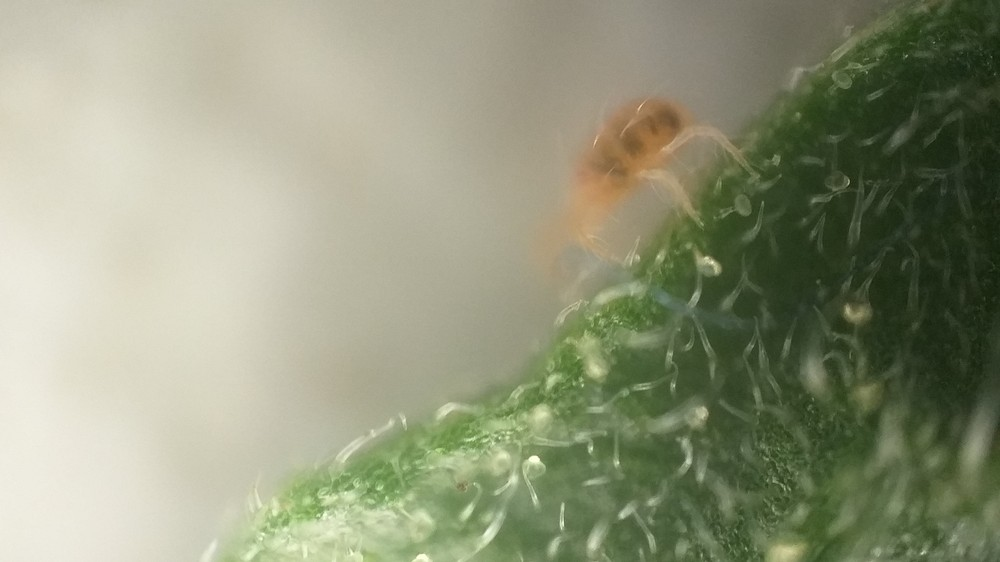Aracnido Rojo: (499, 82, 781, 318)
